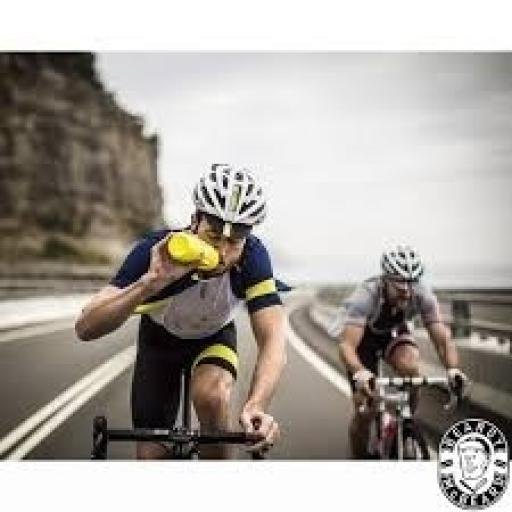cycling: (70, 162, 294, 462), (328, 241, 476, 462)
